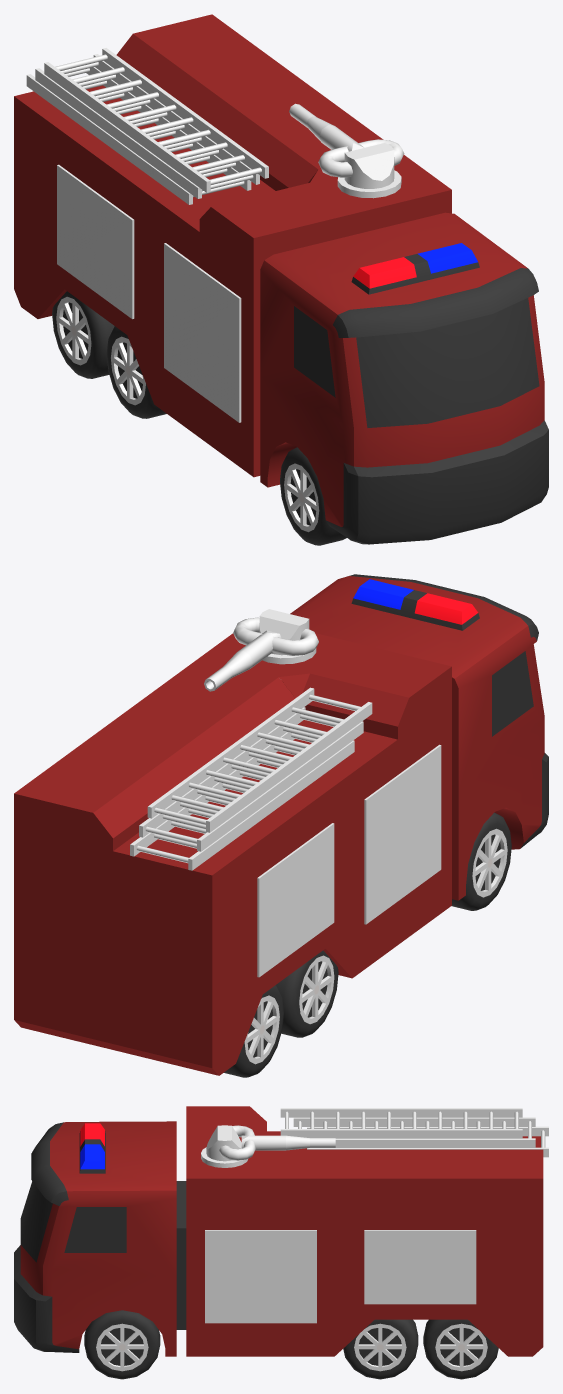
File: Car_Fire.fbx
3 renders of one model, top to bottom at view 1: azimuth 30°, elevation 25°; view 2: azimuth 150°, elevation 25°; view 3: azimuth 270°, elevation 25°, orthographic. The views are drawn at different scales.
Visible parts, largest first — view 1: Cube.002, Car_Fire, Wheel.004, Cylinder.002, Cylinder.001, Cylinder, Top.004, Cylinder.003, Cylinder.005; view 2: Cube.002, Car_Fire, Wheel.004, Cylinder.002, Cylinder.001, Cylinder, Top.004, Cylinder.005, Cylinder.003; view 3: Cube.002, Car_Fire, Wheel.004, Cylinder.002, Cylinder.001, Cylinder.005, Top.004, Cylinder.003, Cylinder.
Boxes of the visible parts, bbox=[...] form: Cube.002: bbox=[14, 14, 451, 477]; Car_Fire: bbox=[260, 212, 548, 544]; Wheel.004: bbox=[52, 291, 346, 545]; Cylinder.002: bbox=[44, 48, 268, 192]; Cylinder.001: bbox=[35, 54, 259, 198]; Cylinder: bbox=[26, 67, 251, 204]; Top.004: bbox=[351, 243, 479, 294]; Cylinder.003: bbox=[337, 143, 401, 198]; Cylinder.005: bbox=[289, 103, 404, 177]; Cube.002: bbox=[14, 633, 451, 1075]; Car_Fire: bbox=[290, 574, 548, 900]; Wheel.004: bbox=[224, 812, 511, 1077]; Cylinder.002: bbox=[147, 687, 372, 832]; Cylinder.001: bbox=[139, 707, 363, 851]; Cylinder: bbox=[130, 732, 354, 870]; Top.004: bbox=[351, 579, 479, 630]; Cylinder.005: bbox=[204, 617, 318, 691]; Cylinder.003: bbox=[259, 609, 316, 664]; Cube.002: bbox=[176, 1106, 543, 1356]; Car_Fire: bbox=[14, 1121, 176, 1356]; Wheel.004: bbox=[84, 1310, 498, 1379]; Cylinder.002: bbox=[280, 1108, 522, 1138]; Cylinder.001: bbox=[293, 1117, 535, 1147]; Cylinder.005: bbox=[219, 1125, 335, 1160]; Top.004: bbox=[79, 1123, 105, 1173]; Cylinder.003: bbox=[201, 1125, 247, 1167]; Cylinder: bbox=[307, 1126, 548, 1157].
Bounding box in the file's own units: 310 × 954 × 453.
